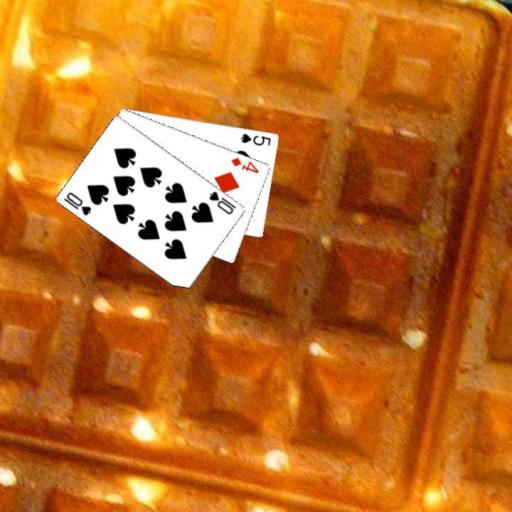10S: (61, 188, 93, 217), (206, 188, 238, 216)
4D: (229, 154, 261, 175)
5S: (239, 130, 273, 147)
